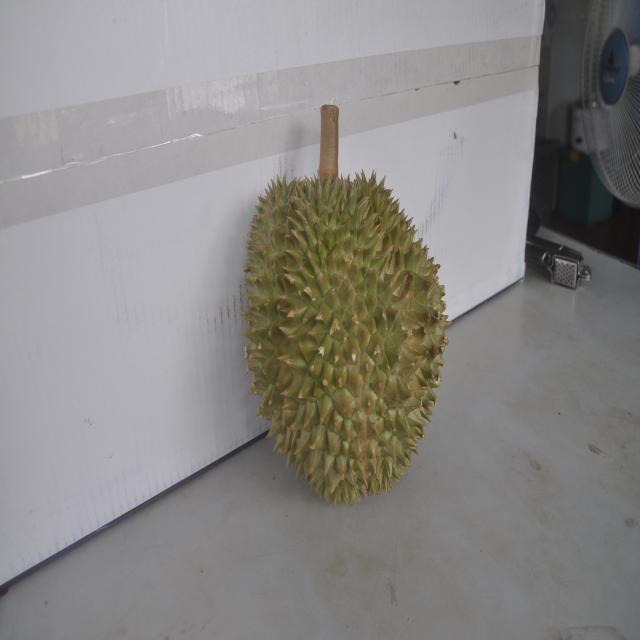mature: (241, 157, 443, 505)
